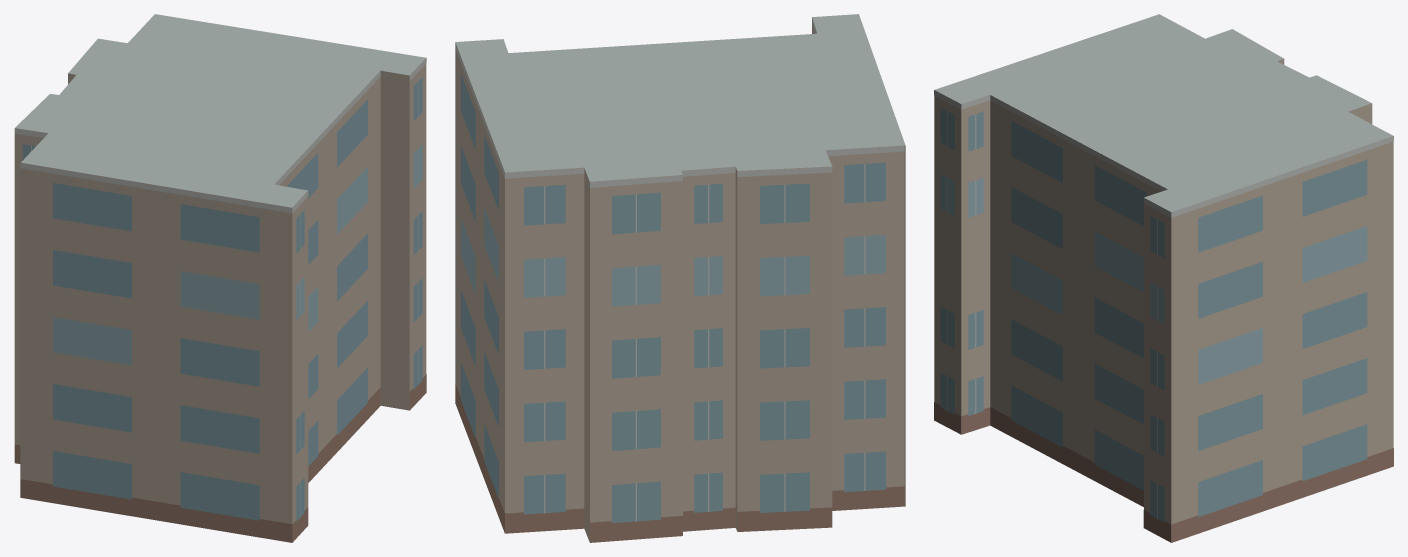
File: survey-upis-33021229.glb
3 renders of one model, left to right at view 1: azimuth 30°, elevation 25°; view 2: azimuth 150°, elevation 25°; view 3: azimuth 270°, elevation 25°, orthographic. The views are drawn at different scales.
Parts seen in each view (by area): view 1: survey-upis-33021229.tmp; view 2: survey-upis-33021229.tmp; view 3: survey-upis-33021229.tmp.
Boxes of the visible parts, x1,y1,x2,y2 form: survey-upis-33021229.tmp: [14, 14, 426, 542]; survey-upis-33021229.tmp: [455, 14, 905, 542]; survey-upis-33021229.tmp: [934, 14, 1393, 542].
Bounding box in the file's own units: 18.6 × 14.45 × 18.21.
